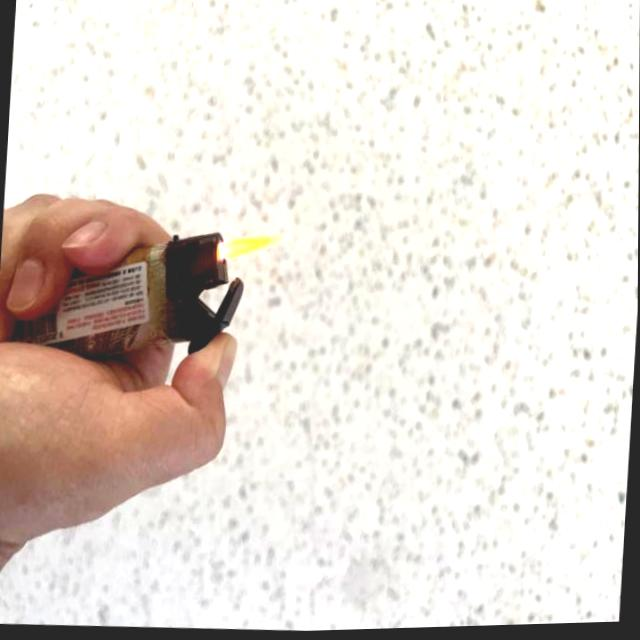Fire: (225, 229, 294, 266)
